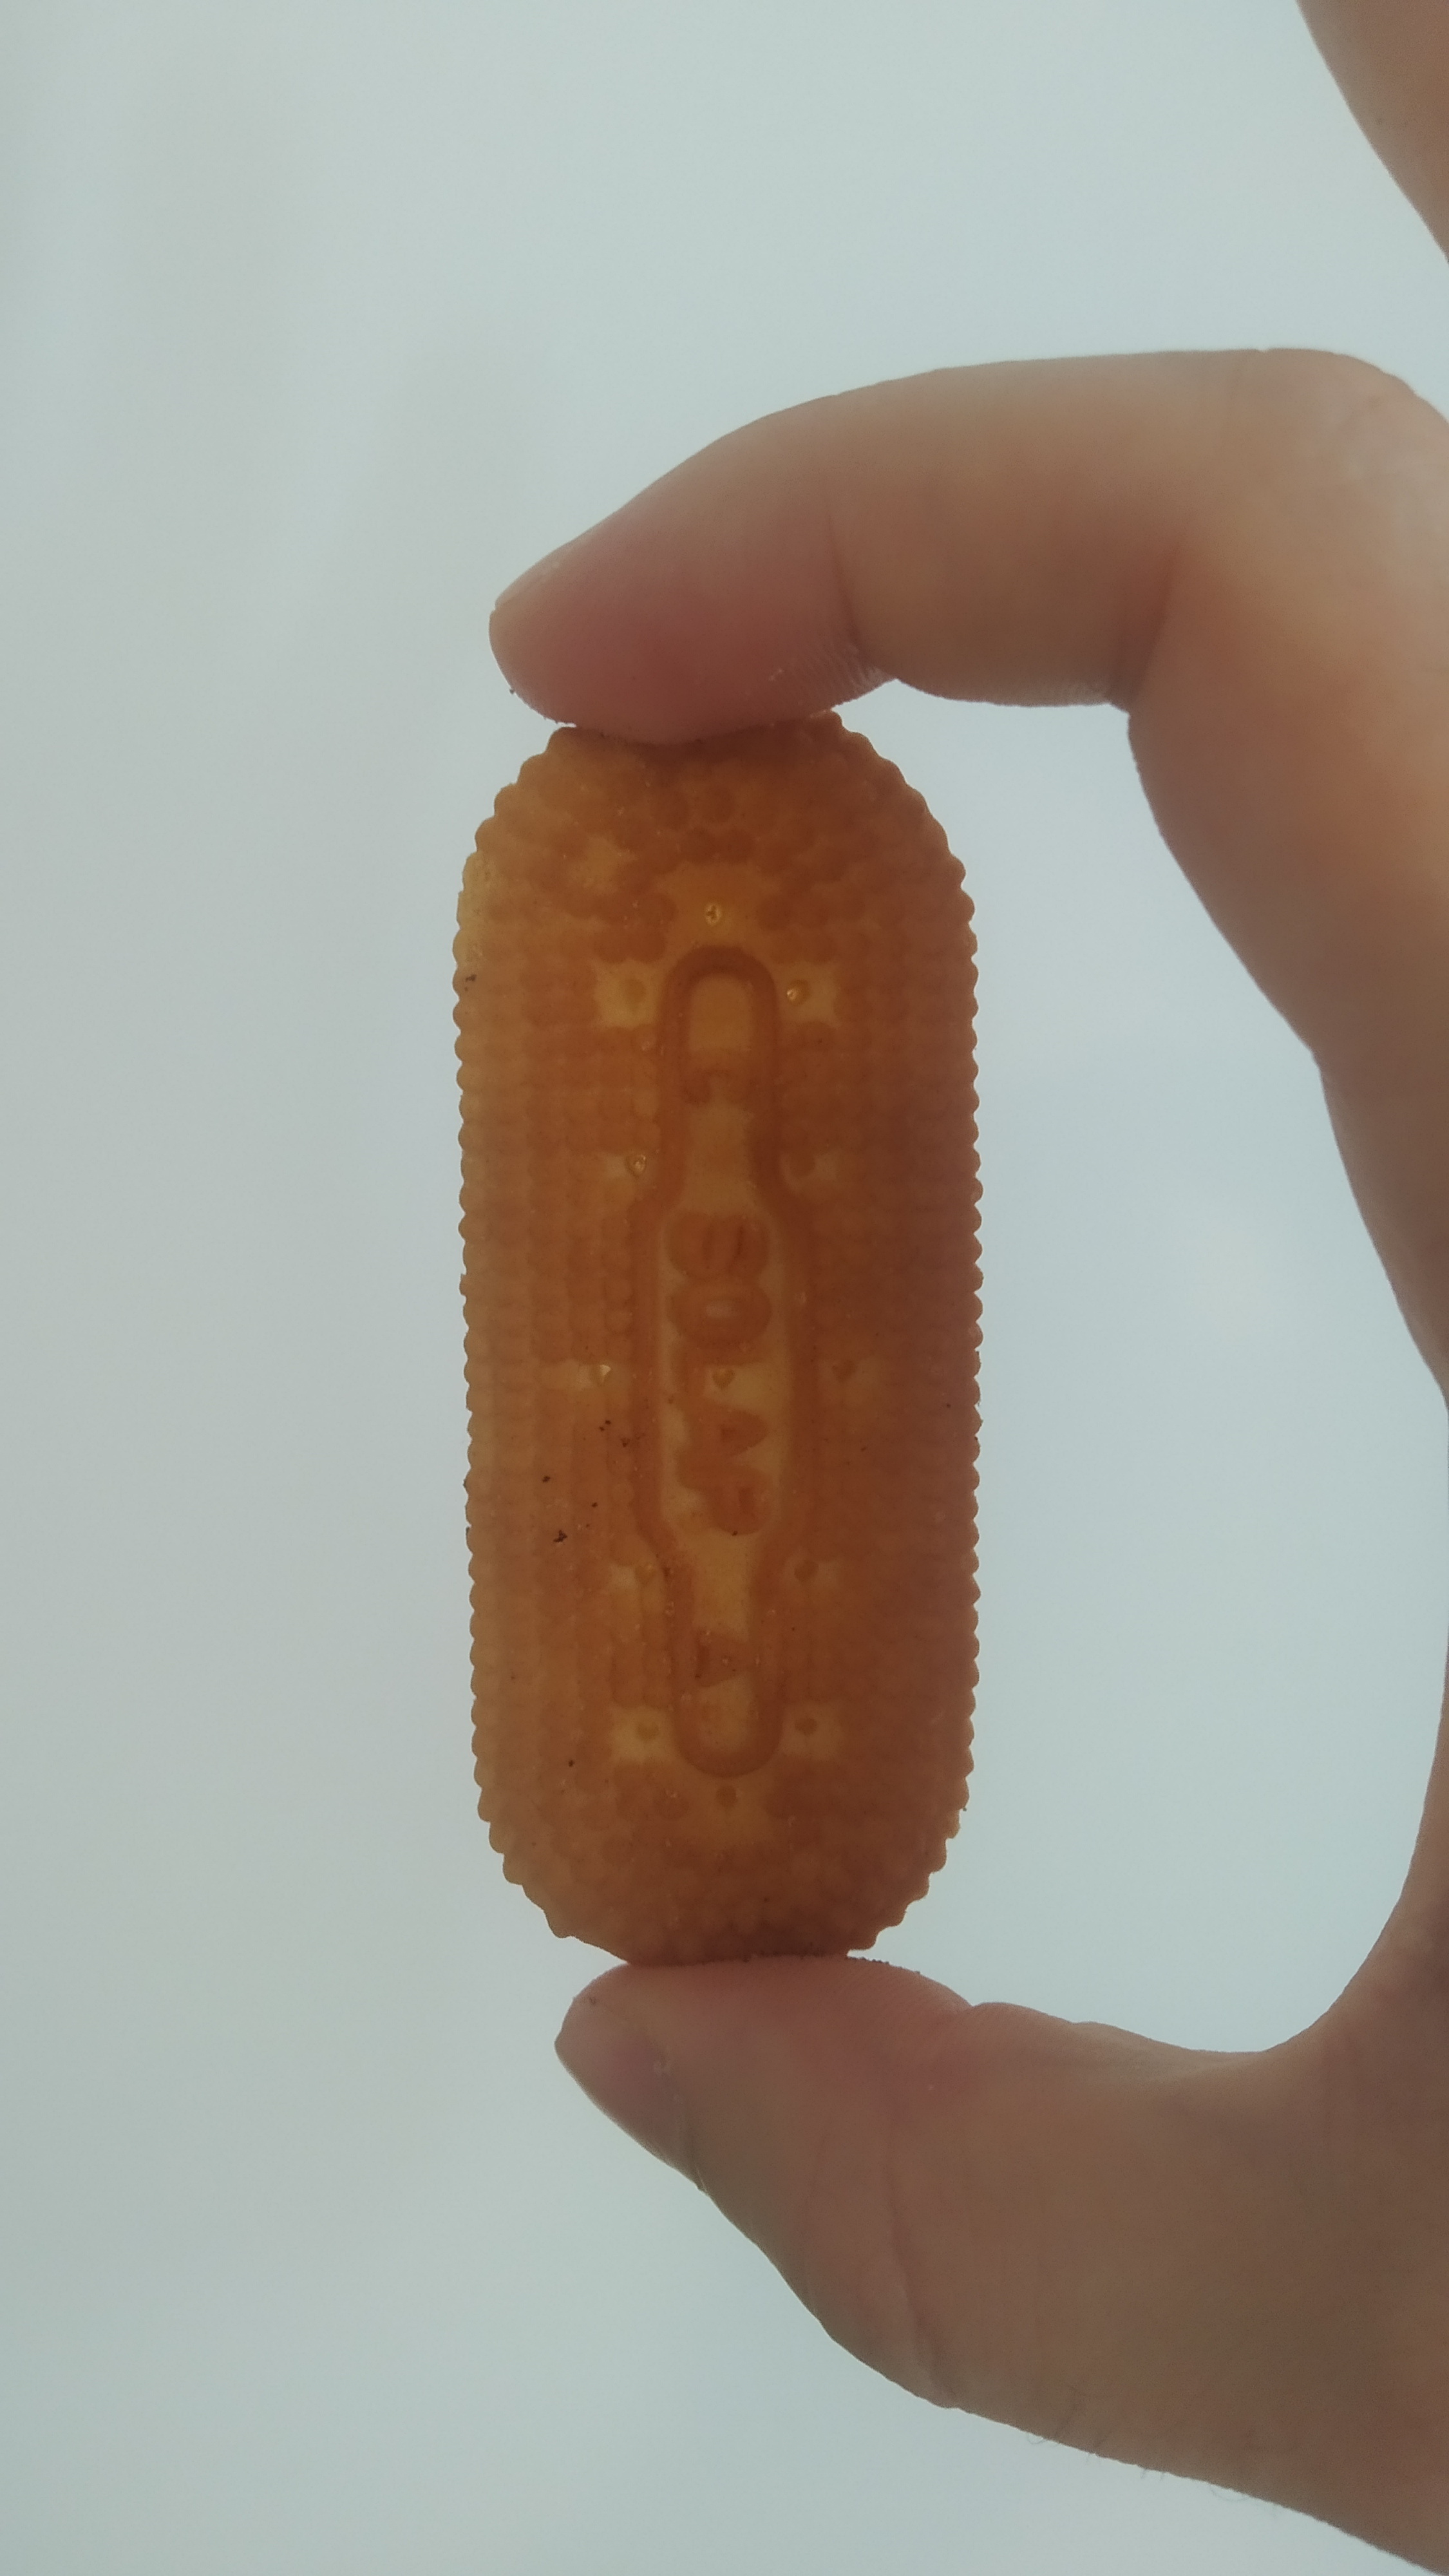solar: (455, 708, 985, 1959)
